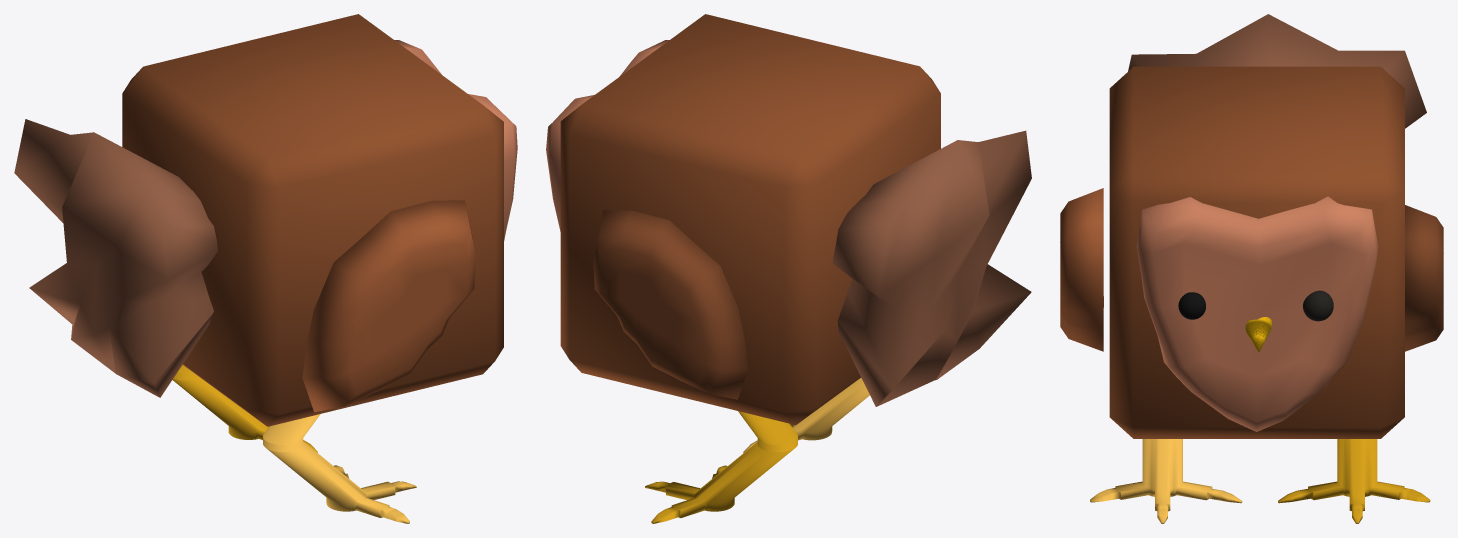
Rendered from ayam.glb.
3 views of the same model, side by side, from view 1: azimuth 30°, elevation 25°; view 2: azimuth 150°, elevation 25°; view 3: azimuth 270°, elevation 25° (orthographic).
Parts seen in each view (by area): view 1: Cube, Plane.003, Plane.001, Cylinder.002, Cylinder, Plane; view 2: Cube, Plane.003, Plane.002, Cylinder, Cylinder.002, Plane; view 3: Cube, Plane, Plane.003, Plane.001, Plane.002, Cylinder.002, Cylinder, Sphere.001, Sphere, Cylinder.001.
Boxes of the visible parts, x1=… form: Cube: x1=122, y1=14, x2=503, y2=426; Plane.003: x1=14, y1=119, x2=217, y2=397; Plane.001: x1=302, y1=200, x2=475, y2=412; Cylinder.002: x1=263, y1=414, x2=416, y2=523; Cylinder: x1=172, y1=365, x2=317, y2=452; Plane: x1=394, y1=40, x2=517, y2=240; Cube: x1=560, y1=14, x2=940, y2=424; Plane.003: x1=832, y1=130, x2=1031, y2=406; Plane.002: x1=593, y1=210, x2=748, y2=399; Cylinder: x1=645, y1=411, x2=797, y2=523; Cylinder.002: x1=743, y1=378, x2=869, y2=452; Plane: x1=546, y1=40, x2=669, y2=231; Cube: x1=1109, y1=66, x2=1404, y2=438; Plane: x1=1136, y1=196, x2=1378, y2=431; Plane.003: x1=1128, y1=14, x2=1426, y2=128; Plane.001: x1=1060, y1=188, x2=1103, y2=351; Plane.002: x1=1405, y1=205, x2=1443, y2=351; Cylinder.002: x1=1090, y1=439, x2=1242, y2=523; Cylinder: x1=1278, y1=439, x2=1430, y2=523; Sphere.001: x1=1303, y1=290, x2=1333, y2=321; Sphere: x1=1178, y1=292, x2=1205, y2=319; Cylinder.001: x1=1245, y1=317, x2=1272, y2=351.
Bounding box in the file's own units: 3.25 × 2.84 × 2.6.
